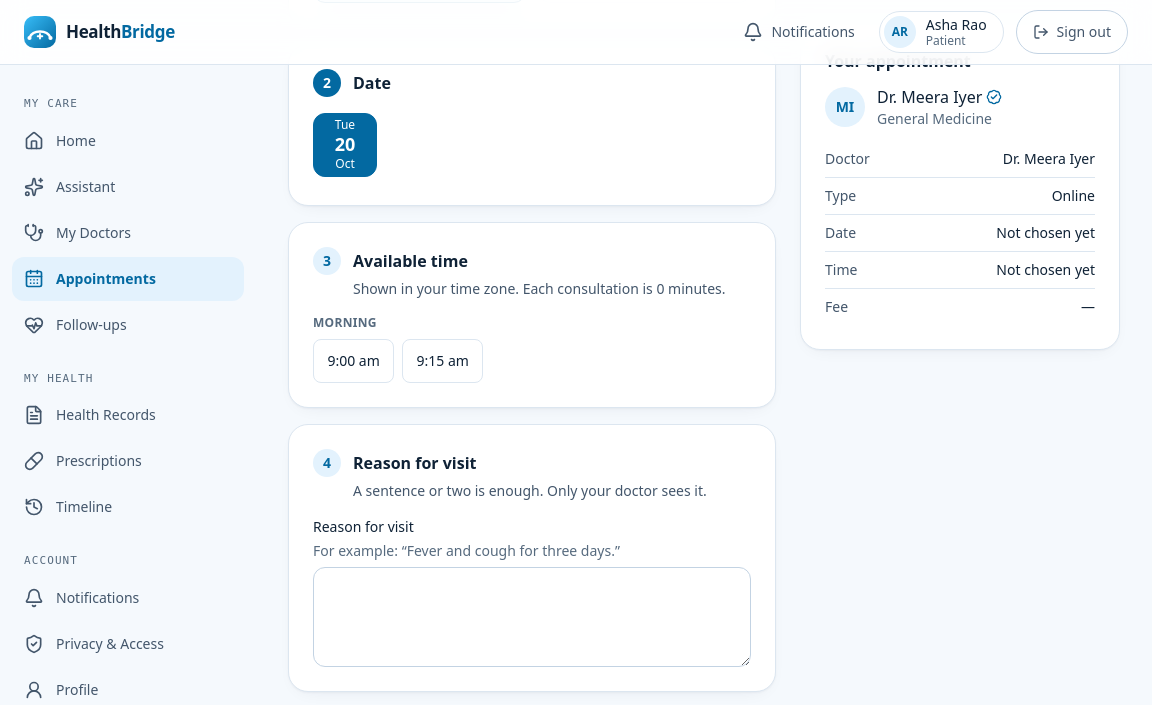
Scenario: booking › lists slots by day, requires a reason, and books with an idempotency key
The width and height of the screenshot is (1152, 705).
(page scrolled)
Check: the element named "Date" is shown, box top-left (313, 113), bottom-right (377, 177)
Click the button "9:15 am" at (443, 361), box top-left (402, 339), bottom-right (483, 383)
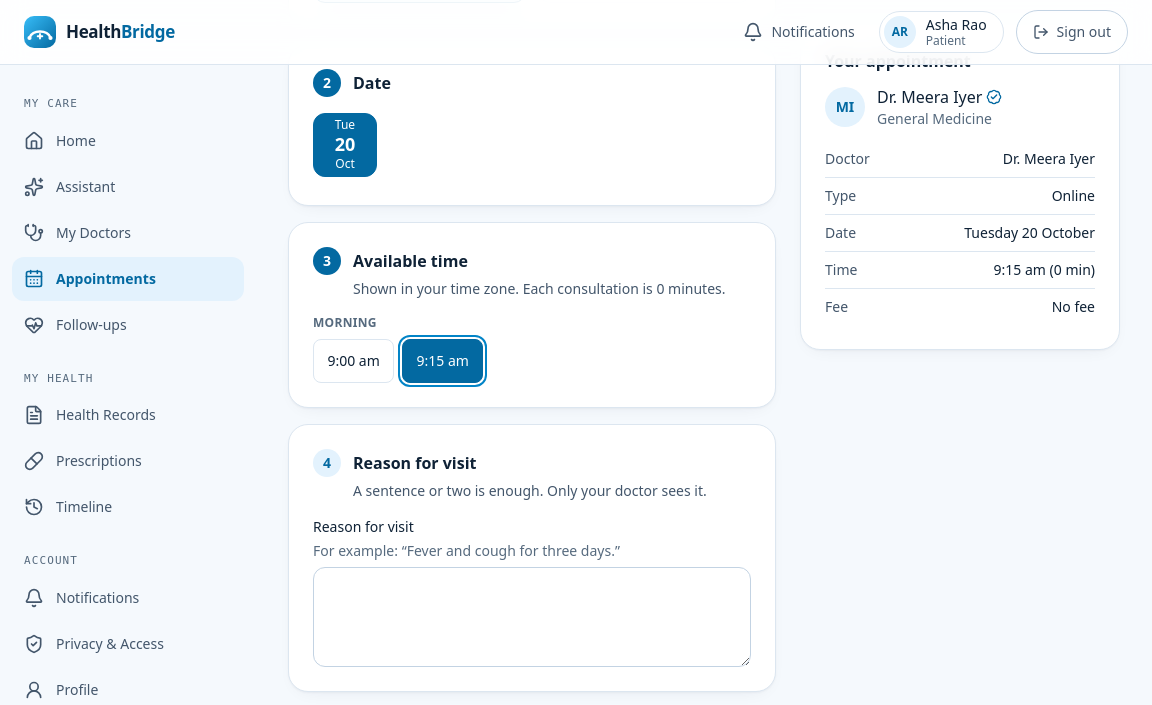
Type "Follow-up on blood sugar" into the text box labelled "Reason for visit" at (532, 617), box top-left (313, 567), bottom-right (751, 667)
(page scrolled)
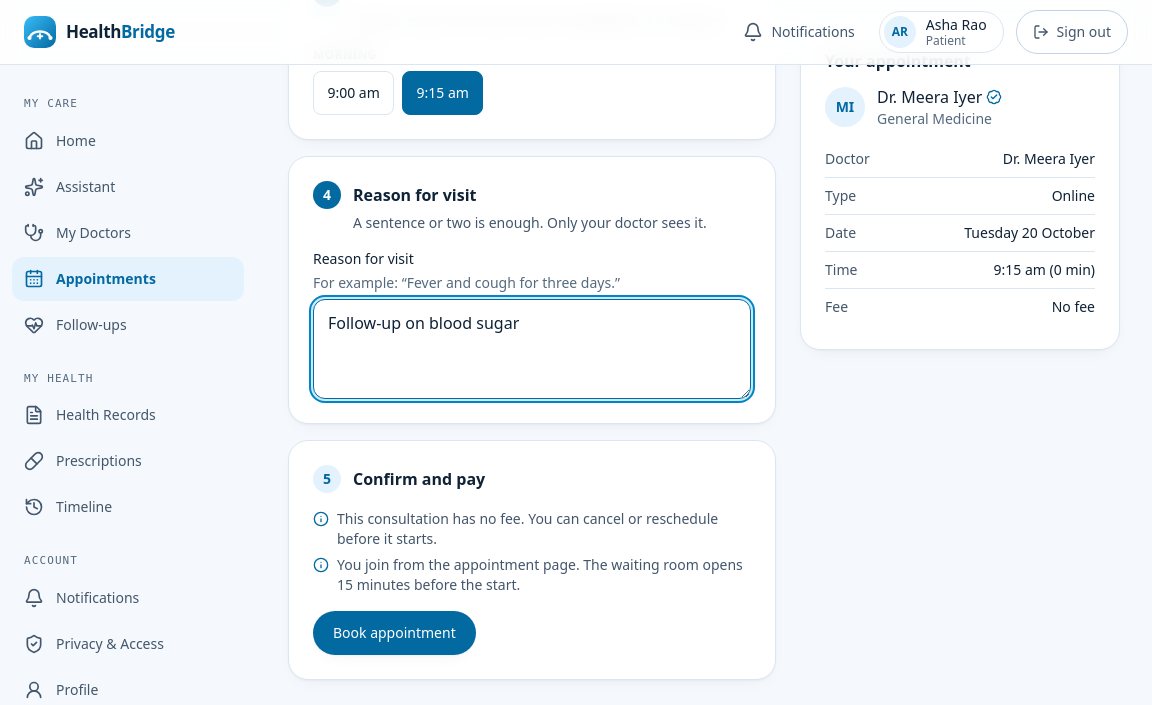
Click the button "Book appointment" at (394, 633), box top-left (313, 611), bottom-right (476, 655)
(page scrolled)
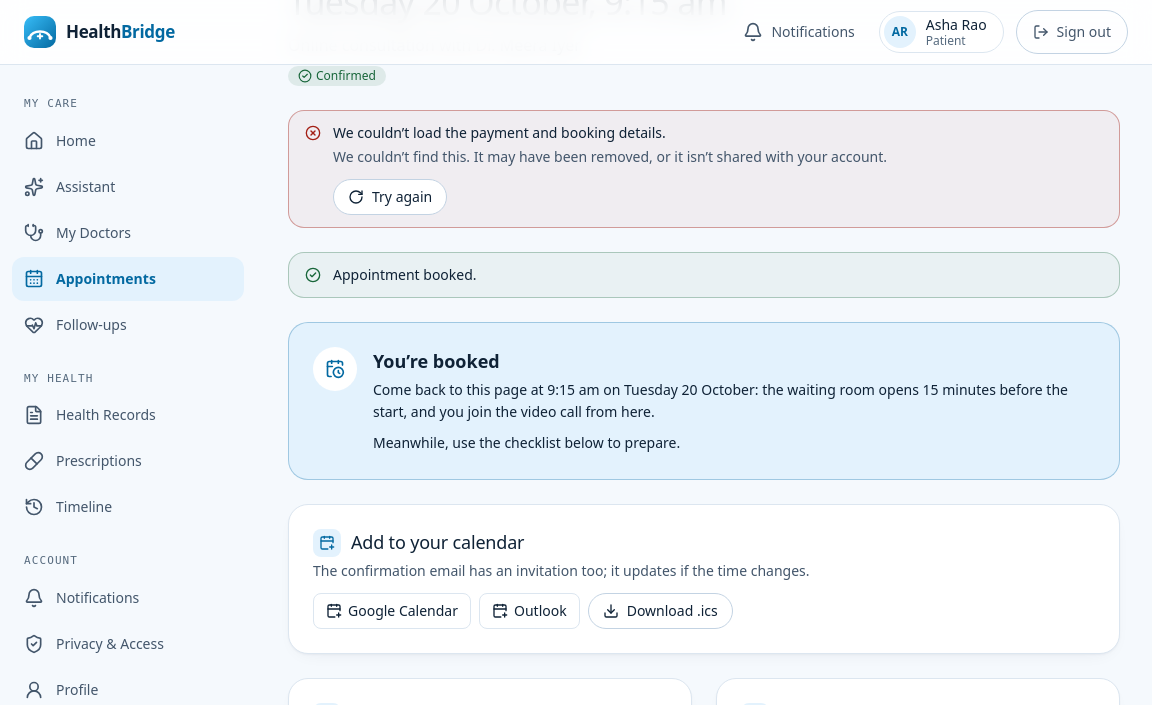
Check: the text "Appointment booked." is shown, box top-left (333, 265), bottom-right (477, 284)
Check: the heading "You’re booked" is shown, box top-left (373, 349), bottom-right (500, 373)
